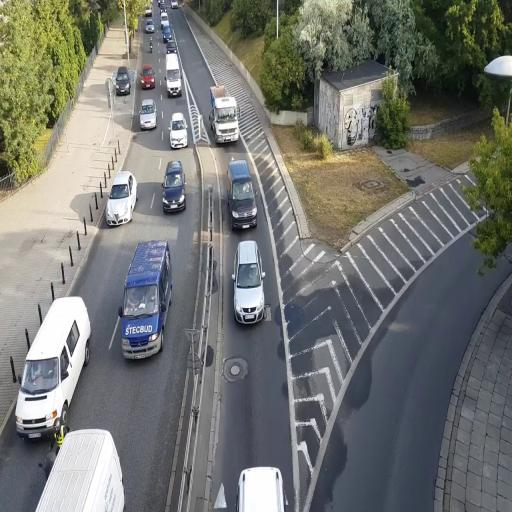vehicle: (14, 294, 92, 441), (36, 427, 124, 512), (120, 239, 173, 360), (233, 238, 265, 326), (237, 466, 286, 512), (228, 158, 258, 230), (106, 171, 137, 227), (162, 159, 186, 213), (169, 112, 188, 150), (140, 100, 157, 130), (114, 68, 131, 96), (139, 66, 155, 90)
